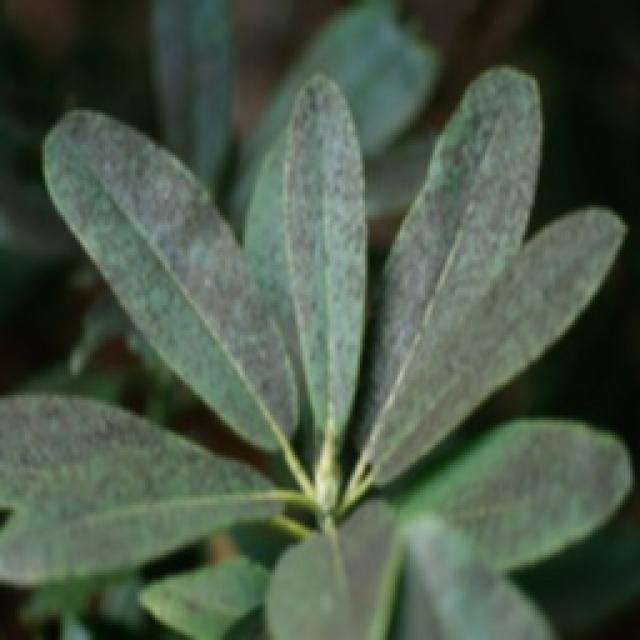Sooty Mold: (0, 60, 638, 638)
